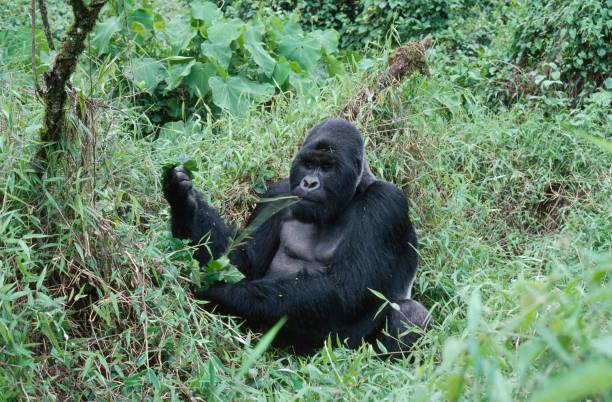goriile_montagne: (161, 119, 469, 356)
